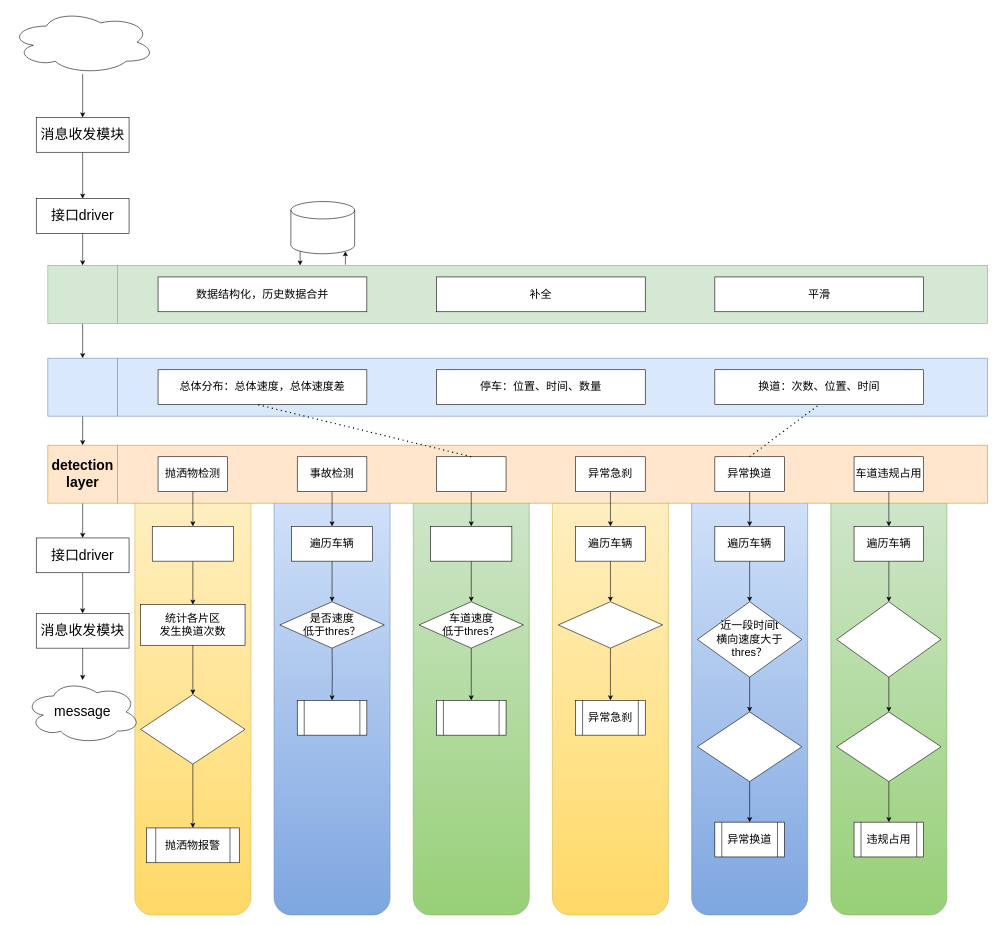
Some shapes in this 998 by 925 pixel diagram are drawn without their labels. Each missing label, with the centre of its shape:
"history data" belongs at (x=322, y=227).
"process layer" belongs at (x=82, y=294).
"radar message" belongs at (x=82, y=42).
"Update layer" belongs at (x=82, y=387).
"一定时间内 换道次数 >thres？" belongs at (x=192, y=729).
"事故报警" belongs at (x=332, y=717).
"加速度大于thres？" belongs at (x=610, y=624).
"占用车道ID是否 为应急车道？" belongs at (x=888, y=639).
"拥堵报警" belongs at (x=471, y=717).
"拥堵检测" belongs at (x=471, y=474).
"按车道+距离 划分片区" belongs at (x=192, y=543).
"车辆laneid 是否改变？" belongs at (x=749, y=746).
"连续占用时间 是否大于thres？" belongs at (x=888, y=746).
"遍历车道" belongs at (x=471, y=543).
